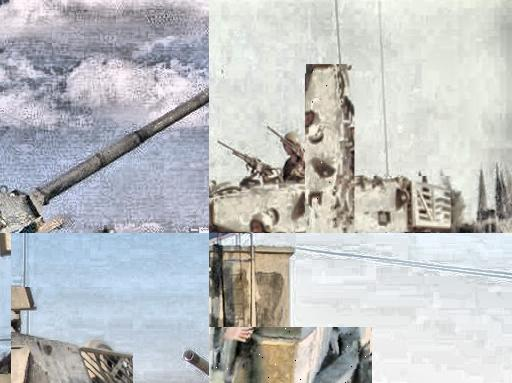tanks: (1, 89, 210, 234), (210, 328, 368, 383), (306, 66, 348, 233), (185, 352, 210, 377), (1, 375, 10, 383)
